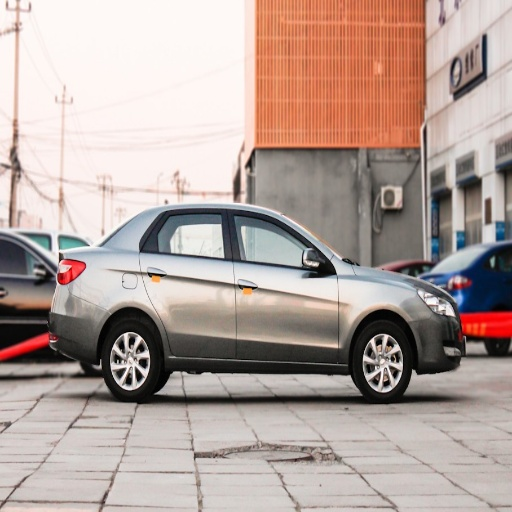back_right_door: (141, 209, 234, 358)
front_right_door: (231, 209, 340, 359), (3, 239, 51, 324)
